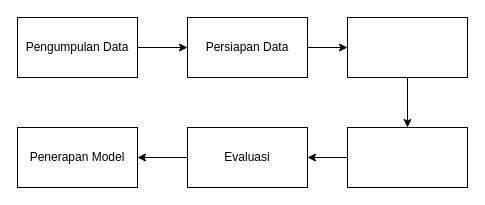
The diagram is 485 pixels wide and 205 high, and some of its shapes have lost their labels. Here are the shapes that lost their labels. From the top down, the centre of each, then its label:
At (407,47): "Pelatihan Model IndoSBERT".
At (407,157): "Embeddings & Cosine Similarity".
